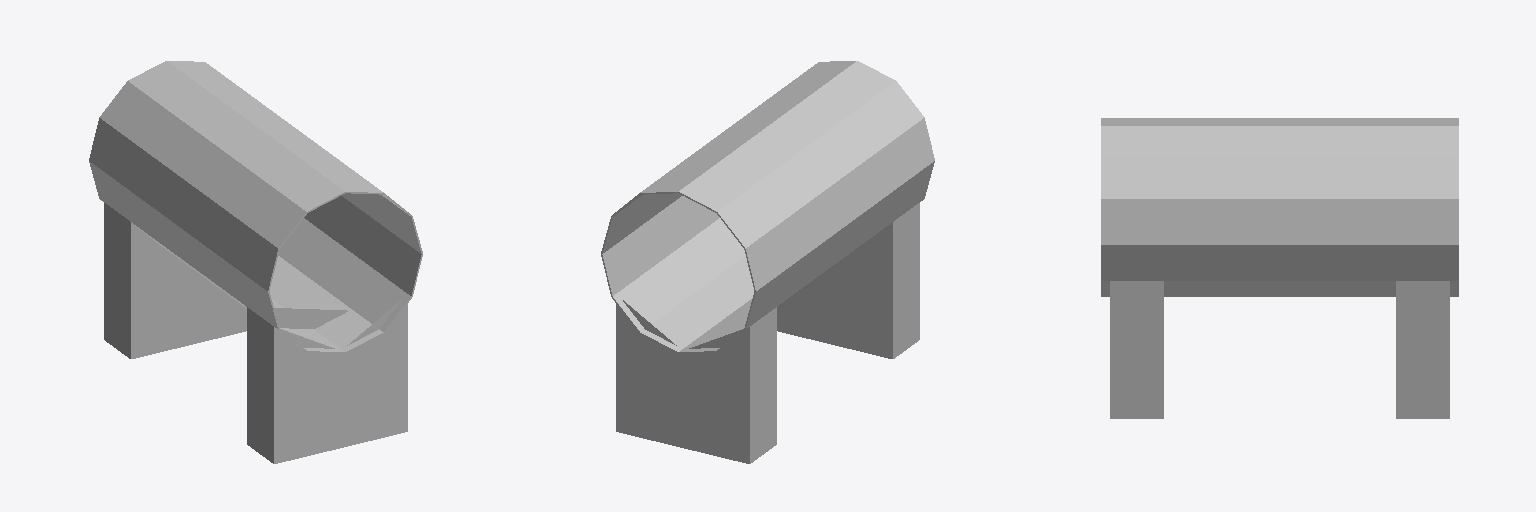
The model's file is Cano10cm.obj.
3 views of the same model, side by side, from view 1: azimuth 30°, elevation 25°; view 2: azimuth 150°, elevation 25°; view 3: azimuth 270°, elevation 25° (orthographic).
Parts seen in each view (by area): view 1: Cylinder.001_Cylinder.002; view 2: Cylinder.001_Cylinder.002; view 3: Cylinder.001_Cylinder.002.
Boxes of the visible parts, x1=… form: Cylinder.001_Cylinder.002: x1=89, y1=61, x2=422, y2=463; Cylinder.001_Cylinder.002: x1=601, y1=61, x2=934, y2=463; Cylinder.001_Cylinder.002: x1=1101, y1=118, x2=1458, y2=418.
Size of the model in its own units: 0.05 by 0.08 by 0.1.